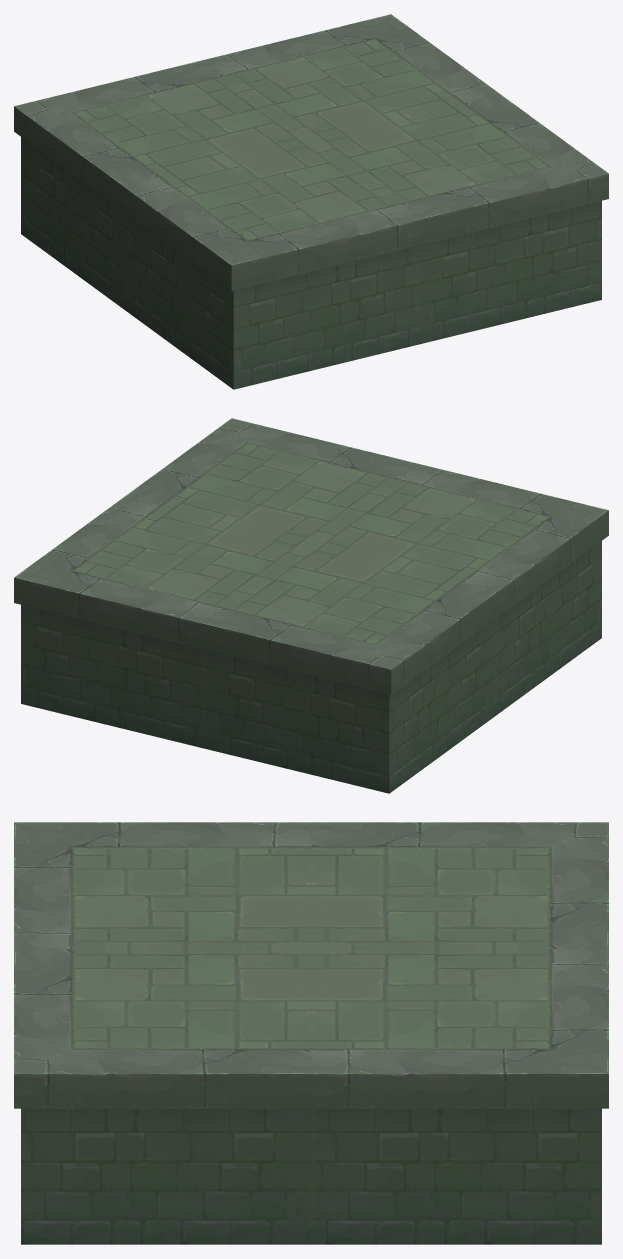
File: xiaotingshitai.FBX
3 renders of one model, top to bottom at view 1: azimuth 30°, elevation 25°; view 2: azimuth 150°, elevation 25°; view 3: azimuth 270°, elevation 25°, orthographic. The views are drawn at different scales.
Parts seen in each view (by area): view 1: xiaotingshitai; view 2: xiaotingshitai; view 3: xiaotingshitai.
Boxes of the visible parts, bbox=[...] form: xiaotingshitai: bbox=[14, 14, 608, 389]; xiaotingshitai: bbox=[14, 418, 608, 793]; xiaotingshitai: bbox=[14, 822, 608, 1244].
Size of the model in its own units: 1617 by 520 by 1617.
